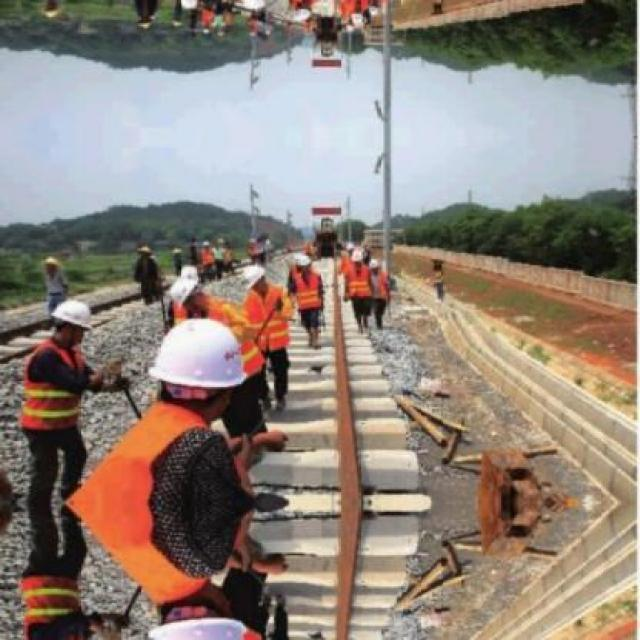Reflective-Jacket: (14, 339, 92, 441), (9, 564, 92, 640), (237, 285, 295, 358), (289, 270, 323, 313), (343, 264, 374, 302)
Safety-Helmet: (139, 313, 266, 401), (48, 298, 98, 333), (238, 262, 271, 290), (289, 250, 317, 271)
